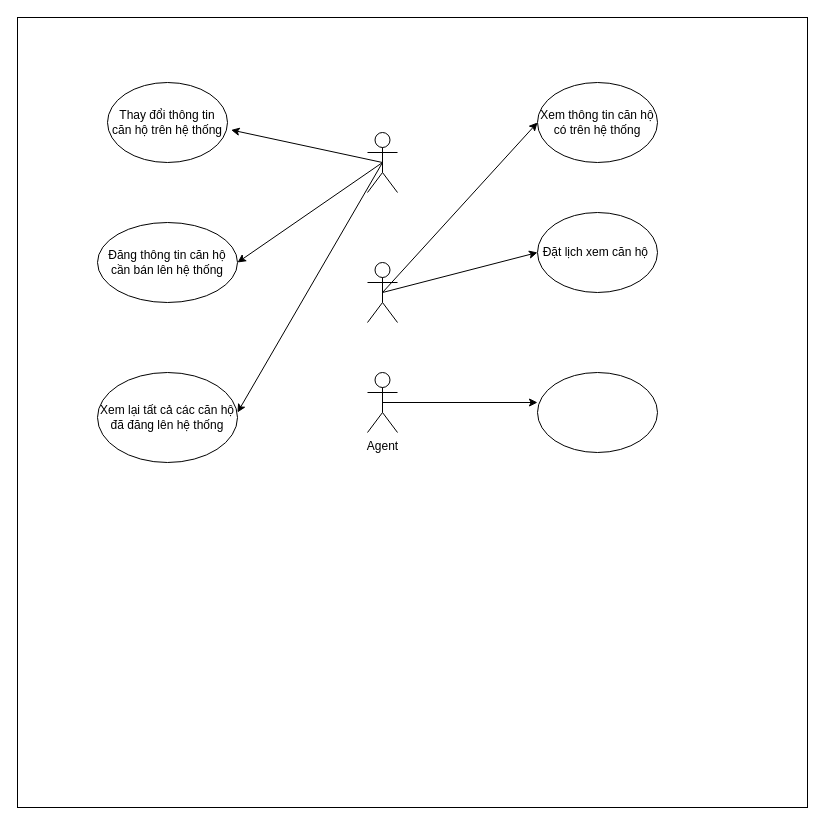
The diagram is 825 pixels wide and 825 high, and some of its shapes have lost their labels. Here are the shapes that lost their labels. From the top down, the centre of each, then its label:
At pixel 382 162: "Owners".
At pixel 382 292: "Customer".
At pixel 597 412: "Confirm đặt lịch xem căn hộ".
